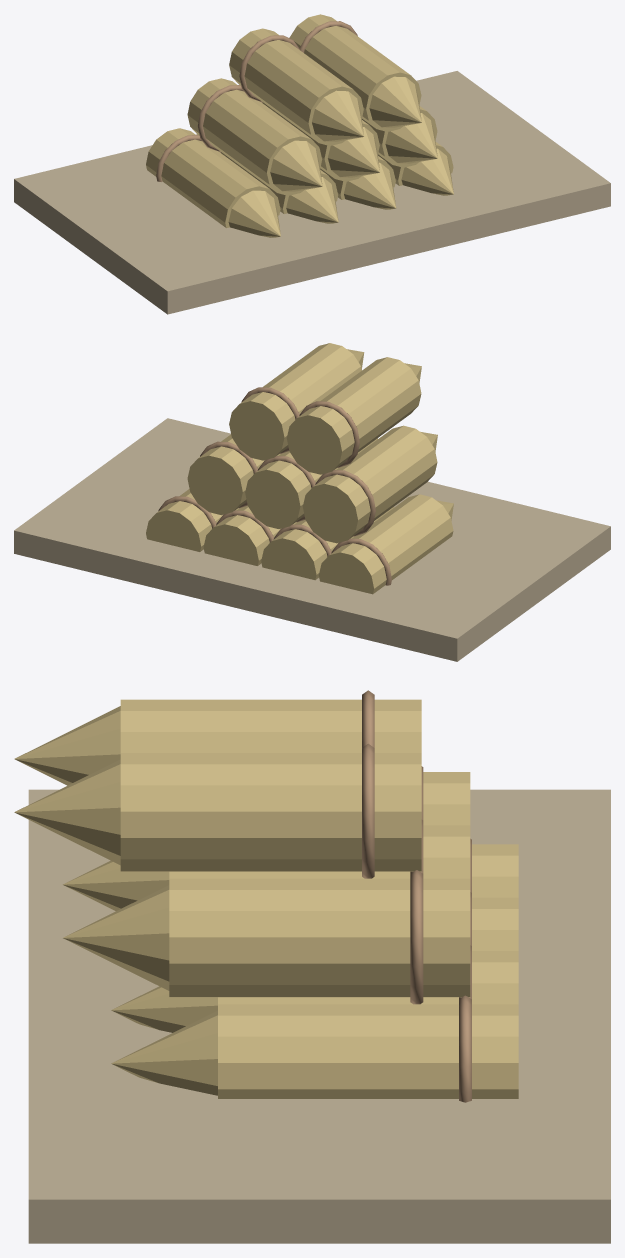
Rendered from trench-line-1917-shell-stack-9a28c51c__24117.glb.
The picture shows the model from 3 angles, top to bottom: view 1: azimuth 30°, elevation 25°; view 2: azimuth 150°, elevation 25°; view 3: azimuth 270°, elevation 25°; orthographic projection. The views are drawn at different scales.
Parts seen in each view (by area): view 1: shell-stack; view 2: shell-stack; view 3: shell-stack.
Boxes of the visible parts, x1=… form: shell-stack: x1=14, y1=14, x2=610, y2=314; shell-stack: x1=14, y1=343, x2=610, y2=661; shell-stack: x1=14, y1=690, x2=610, y2=1243.
Bounding box in the file's own units: 2 × 0.7341 × 1.23.
